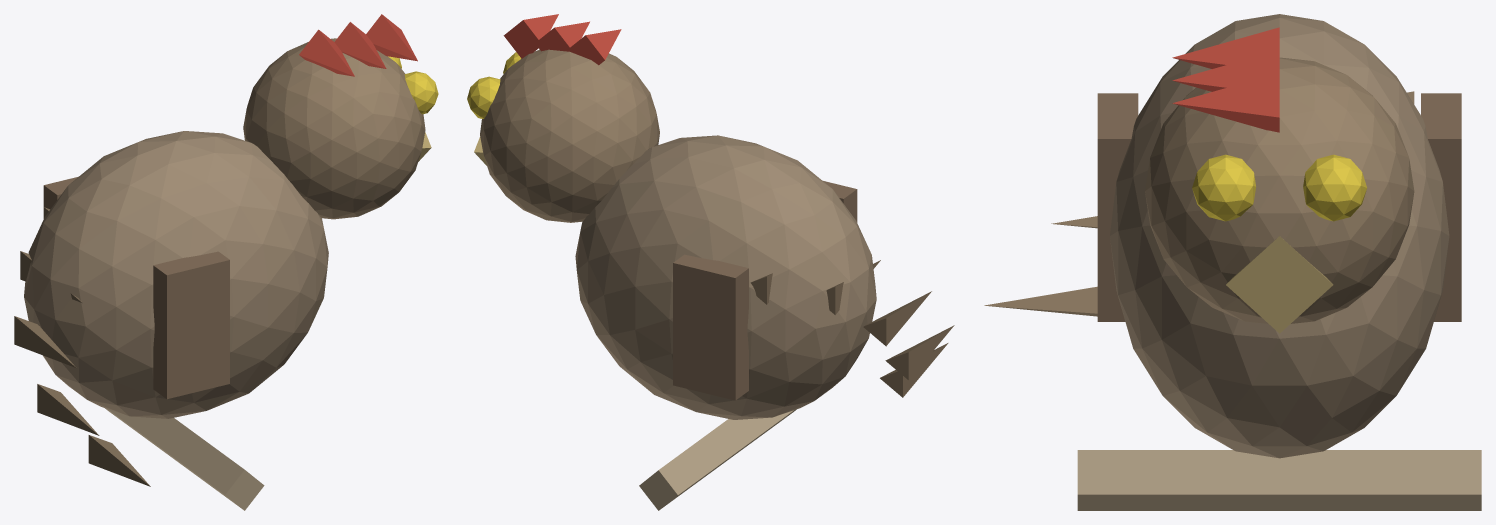
The model's file is zombie_chicken.glb.
3 views of the same model, side by side, from view 1: azimuth 30°, elevation 25°; view 2: azimuth 150°, elevation 25°; view 3: azimuth 270°, elevation 25° (orthographic). The views are drawn at different scales.
Visible parts, largest first — view 1: geometry_0; view 2: geometry_0; view 3: geometry_0.
Part boxes in pixels (x1,y1,x2,y2): geometry_0: [14, 14, 438, 510]; geometry_0: [467, 14, 954, 510]; geometry_0: [984, 14, 1481, 510].
Size of the model in its own units: 0.5101 by 0.48 by 0.37.
